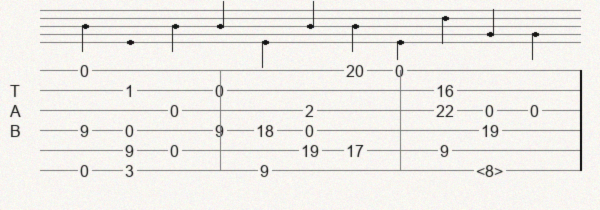0: (80, 162, 93, 178), (80, 62, 93, 78), (125, 122, 138, 138), (170, 142, 183, 158), (170, 102, 183, 118), (215, 82, 228, 98), (305, 122, 318, 138), (395, 62, 408, 78), (485, 102, 498, 118), (530, 102, 543, 118)
1: (125, 82, 138, 98)
16: (436, 82, 458, 98)
17: (346, 142, 368, 158)
18: (256, 122, 278, 138)
19: (301, 142, 323, 158), (481, 122, 503, 138)
2: (305, 102, 318, 118)
20: (346, 62, 368, 78)
22: (436, 102, 458, 118)
3: (125, 162, 138, 178)
9: (80, 122, 93, 138), (125, 142, 138, 158), (215, 122, 228, 138), (260, 162, 273, 178), (440, 142, 453, 158)
harmonic: (476, 162, 507, 178)
